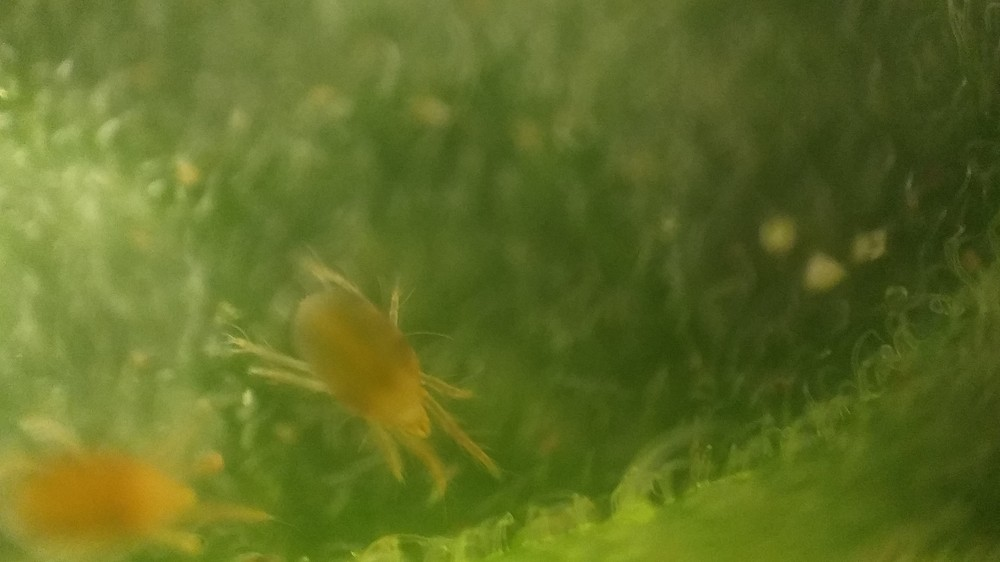Aracnido Rojo: (211, 255, 529, 510)
